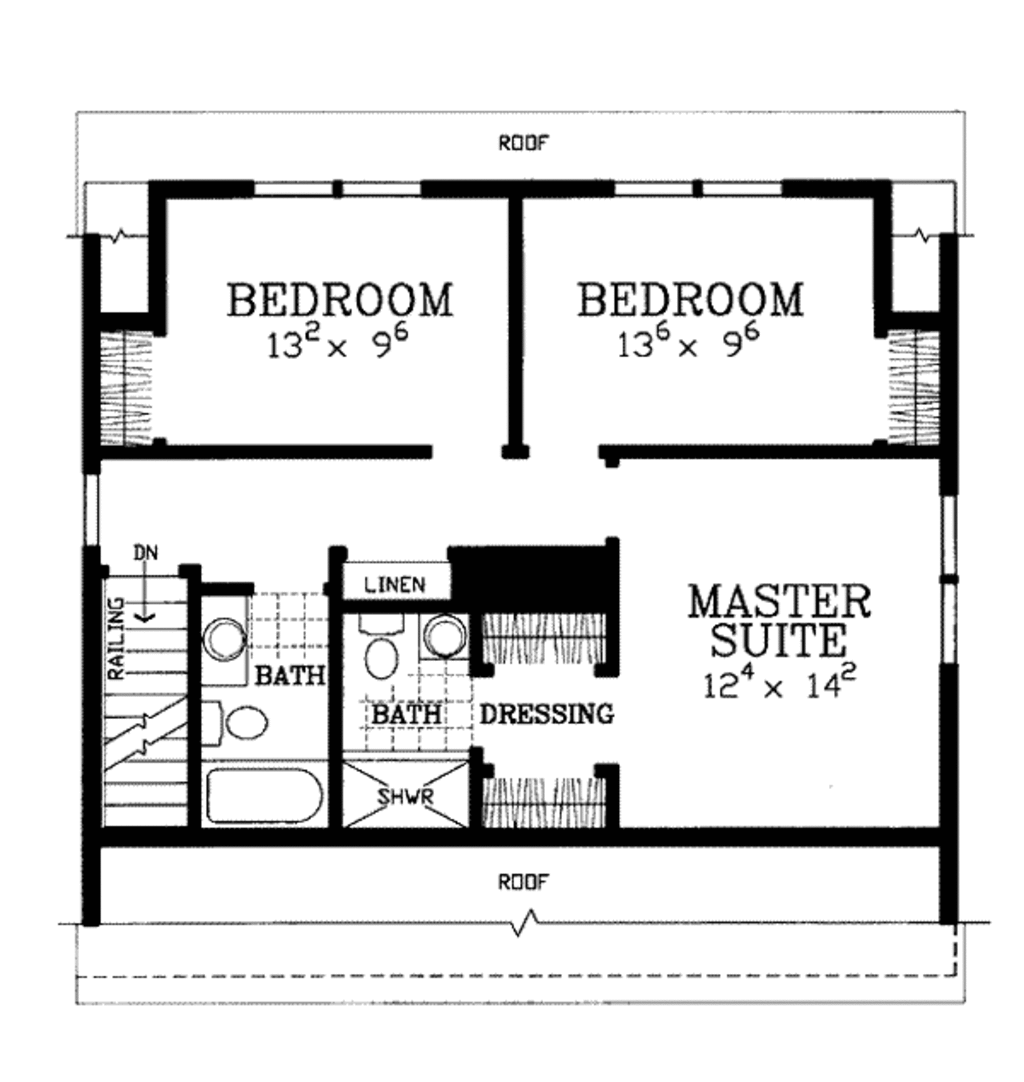large_sink: (345, 603, 416, 695), (191, 686, 272, 755)
small_sink: (198, 588, 255, 690)
stairs: (98, 536, 195, 833)
tub: (197, 752, 338, 839)
windows: (606, 170, 788, 210), (247, 172, 434, 206), (933, 482, 962, 673), (76, 458, 102, 548)
